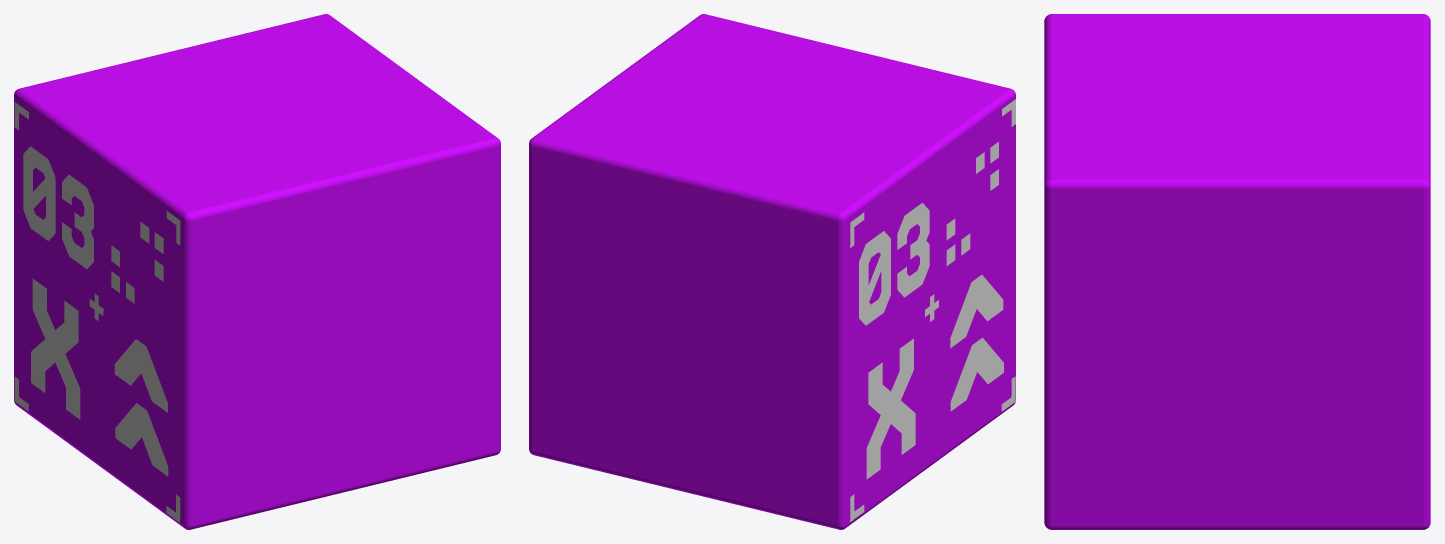
3 renders of one model, left to right at view 1: azimuth 30°, elevation 25°; view 2: azimuth 150°, elevation 25°; view 3: azimuth 270°, elevation 25°, orthographic. The views are drawn at different scales.
Parts seen in each view (by area): view 1: Cube.006, Text.007, Text, Text.049, Text.060, Text.041; view 2: Cube.006, Text.007, Text, Text.049, Text.060, Text.041; view 3: Cube.006.
Boxes of the visible parts, x1,y1,x2,y2 form: Cube.006: (14, 14, 500, 529); Text.007: (23, 146, 93, 268); Text: (32, 278, 80, 419); Text.049: (115, 403, 168, 476); Text.060: (114, 339, 167, 412); Text.041: (31, 300, 78, 392); Cube.006: (529, 14, 1015, 529); Text.007: (859, 203, 929, 325); Text: (868, 362, 915, 454); Text.049: (950, 337, 1003, 411); Text.060: (950, 275, 1003, 348); Text.041: (866, 338, 913, 479); Cube.006: (1044, 14, 1430, 529).
Size of the model in its own units: 209 by 199 by 199.
